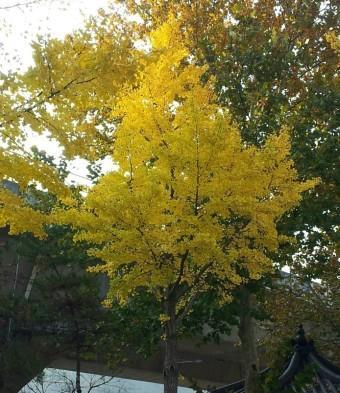tree: (73, 26, 289, 387)
